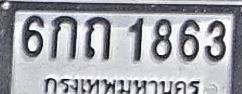1: (129, 17, 144, 61)
3: (204, 20, 226, 62)
6: (22, 14, 44, 58), (178, 18, 200, 61)
8: (151, 18, 172, 60)
A01: (50, 14, 77, 60)
A22: (84, 15, 111, 60)
BKK: (39, 73, 204, 94)
